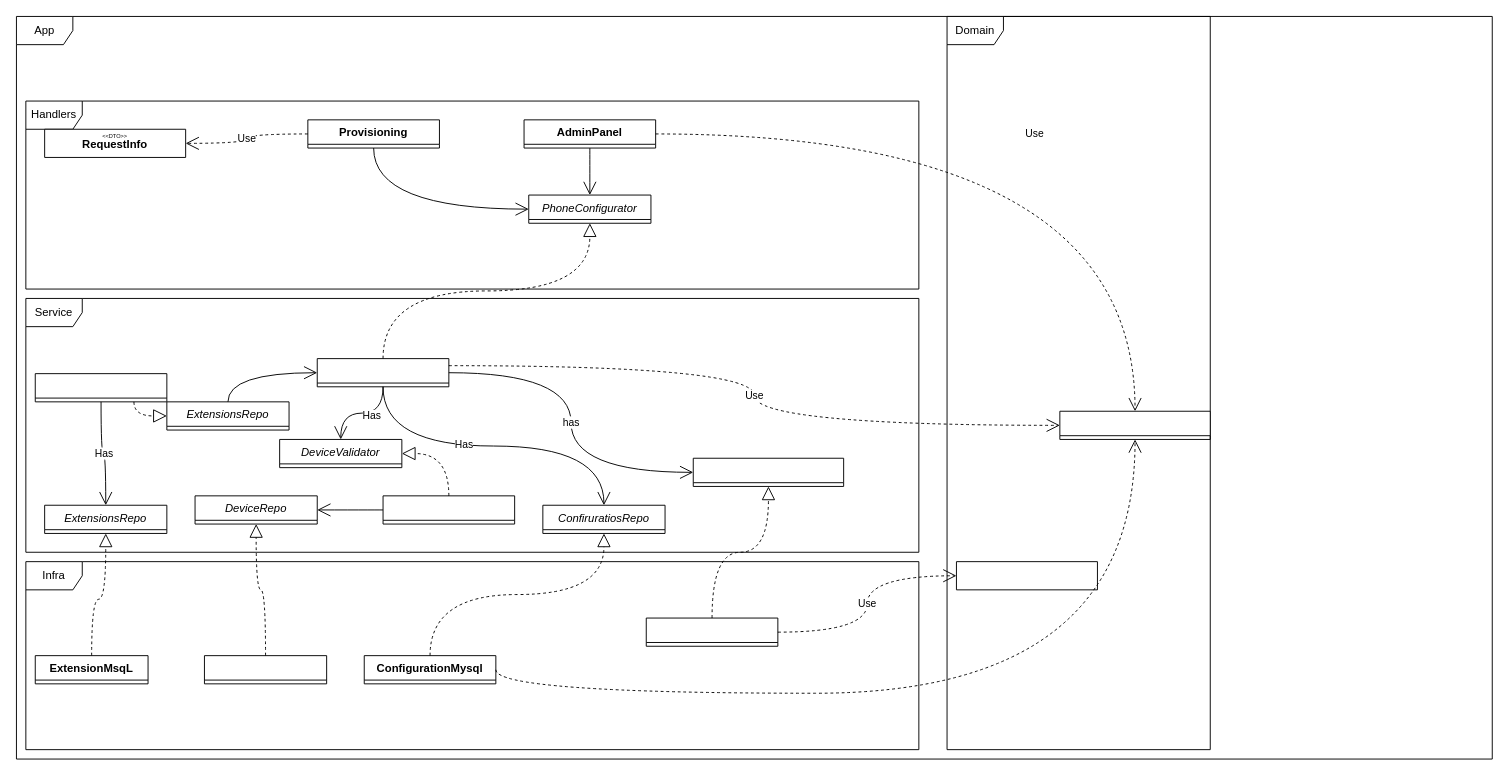
The diagram is 1509 pixels wide and 776 high, and some of its shapes have lost their labels. Here are the shapes that lost their labels. From the top down, the centre of each, then its label:
At point 100,387: "ExtensionManager".
At point 382,372: "PhoneConfiguration".
At point 1134,424: "PhoneConfig".
At point 768,471: "AppConfigManager".
At point 448,509: "DeviceValidate".
At point 1026,575: "<<DTO>> AppConfiguration".
At point 711,631: "AppConfigToml".
At point 265,669: "MACLookupApp".
